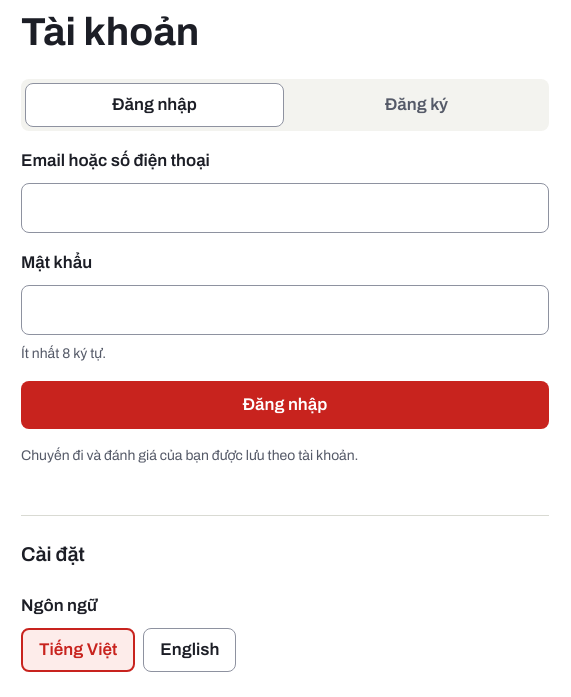
Test: account page › stays on the page after a plain sign-in, and never follows a link to another site
Type "lan@example.com" into the field labelled "Email hoặc số điện thoại". click: (285, 208)
box: left=21, top=183, right=549, bottom=233
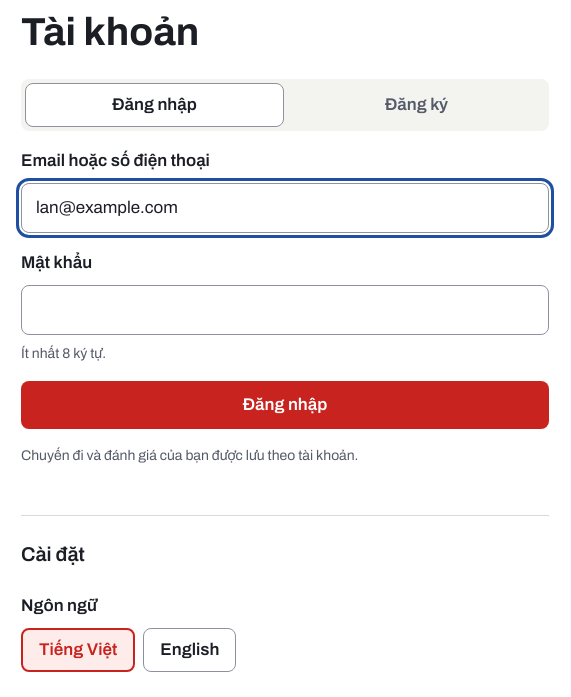
Type "secret-pass" into the password field labelled "Mật khẩu". click: (285, 310)
box: left=21, top=285, right=549, bottom=335
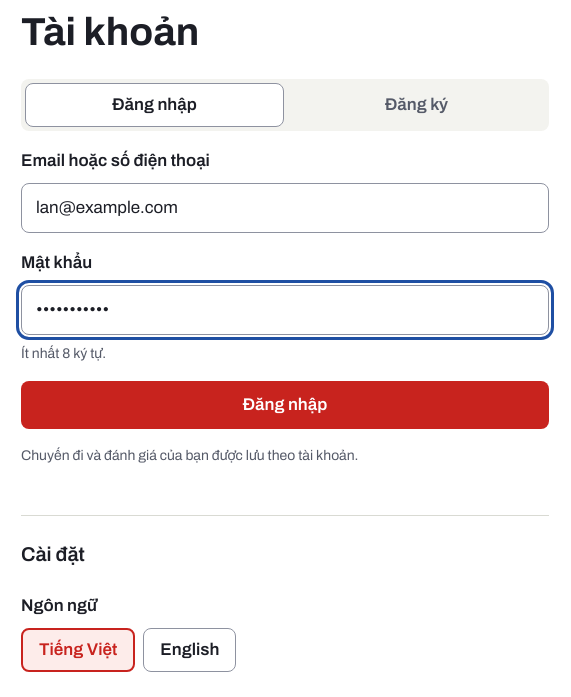
Click the button "Đăng nhập". click: (285, 405)
box: left=21, top=381, right=549, bottom=429
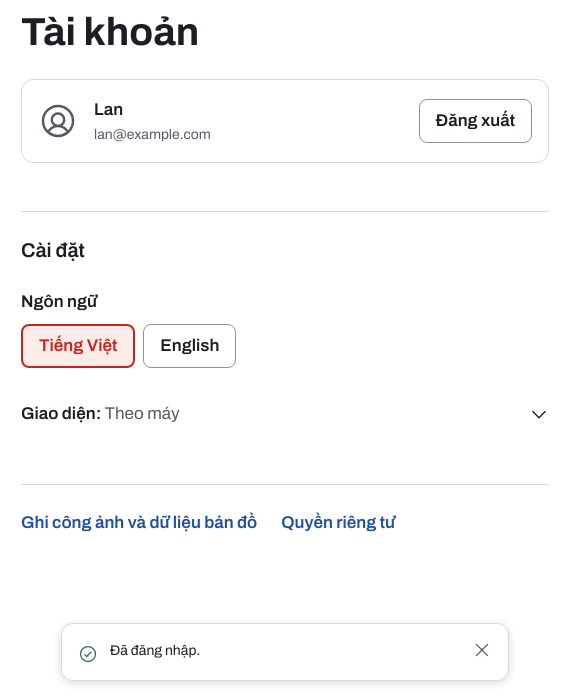
Result: the heading "Lan" is shown at left=94, top=100, right=123, bottom=119
